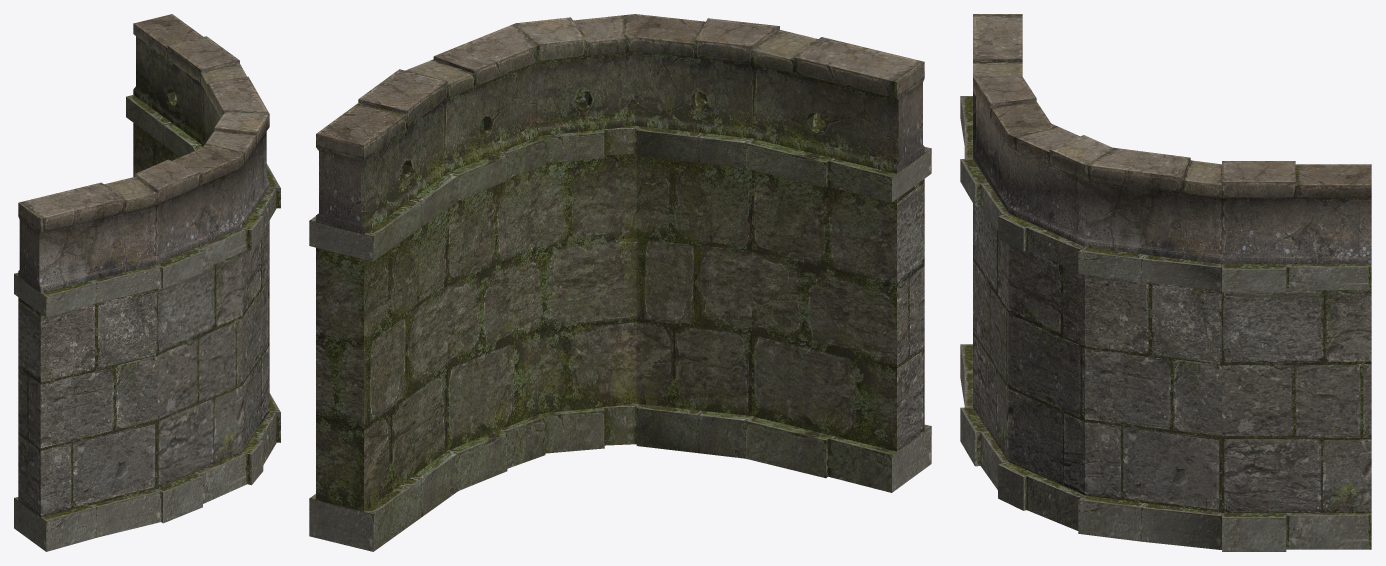
The model's file is bg_lut_lutomb_wall04_sm_old.FBX.
3 views of the same model, side by side, from view 1: azimuth 30°, elevation 25°; view 2: azimuth 150°, elevation 25°; view 3: azimuth 270°, elevation 25° (orthographic). The views are drawn at different scales.
Visible parts, largest first — view 1: bg_lut_lutomb_wall04_sm_old; view 2: bg_lut_lutomb_wall04_sm_old; view 3: bg_lut_lutomb_wall04_sm_old.
Part boxes in pixels (x1=…): bg_lut_lutomb_wall04_sm_old: x1=14, y1=14, x2=280, y2=551; bg_lut_lutomb_wall04_sm_old: x1=309, y1=14, x2=931, y2=551; bg_lut_lutomb_wall04_sm_old: x1=960, y1=14, x2=1371, y2=551.
Size of the model in its own units: 528 by 517 by 528.
